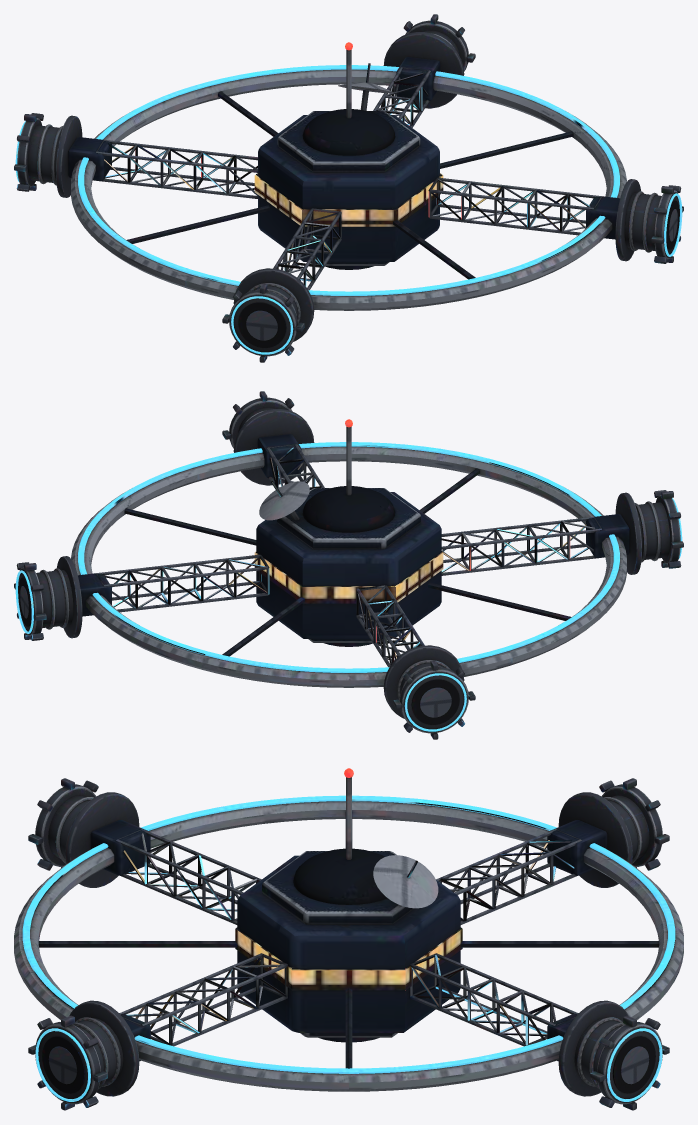
Rendered from dock-orbital.glb.
3 renders of one model, top to bottom at view 1: azimuth 30°, elevation 25°; view 2: azimuth 150°, elevation 25°; view 3: azimuth 270°, elevation 25°, orthographic. The views are drawn at different scales.
Parts seen in each view (by area): view 1: dock, berth_3, berth_4, berth_2, berth_1; view 2: dock, berth_2, berth_1, berth_3, berth_4; view 3: dock, berth_1, berth_4, berth_2, berth_3.
Boxes of the visible parts, x1=… form: dock: x1=68, y1=42, x2=626, y2=310; berth_3: x1=222, y1=268, x2=314, y2=362; berth_4: x1=615, y1=179, x2=683, y2=263; berth_2: x1=14, y1=113, x2=82, y2=197; berth_1: x1=383, y1=14, x2=475, y2=108; dock: x1=71, y1=419, x2=629, y2=687; berth_2: x1=383, y1=645, x2=475, y2=739; berth_1: x1=14, y1=556, x2=82, y2=640; berth_3: x1=615, y1=490, x2=683, y2=574; berth_4: x1=222, y1=391, x2=314, y2=485; dock: x1=14, y1=768, x2=683, y2=1091; berth_1: x1=558, y1=1000, x2=669, y2=1110; berth_4: x1=28, y1=1000, x2=139, y2=1110; berth_2: x1=558, y1=778, x2=669, y2=887; berth_3: x1=28, y1=778, x2=139, y2=887.
Size of the model in its own units: 1 by 0.4176 by 0.9994.
2 materials, 2 textured.
